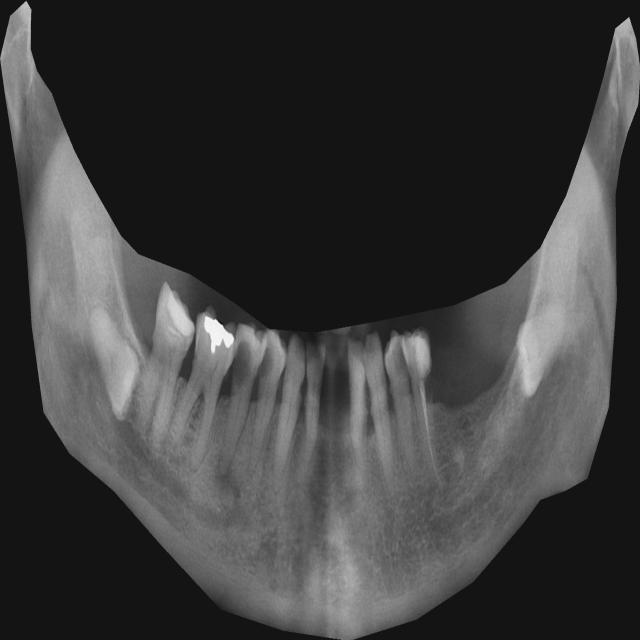mandibula: (0, 1, 640, 640)
